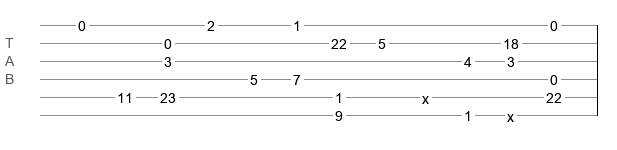0: (78, 18, 86, 28), (164, 36, 172, 46), (550, 72, 558, 82), (550, 18, 558, 28)
1: (293, 18, 301, 28), (335, 90, 343, 100), (464, 108, 472, 118)
11: (117, 90, 133, 100)
18: (503, 36, 519, 46)
2: (207, 18, 215, 28)
22: (331, 36, 347, 46), (546, 90, 562, 100)
23: (160, 90, 176, 100)
3: (164, 54, 172, 64), (507, 54, 515, 64)
4: (464, 54, 472, 64)
5: (250, 72, 258, 82), (378, 36, 386, 46)
7: (293, 72, 301, 82)
9: (335, 108, 343, 118)
x: (422, 91, 429, 99), (507, 109, 514, 117)
